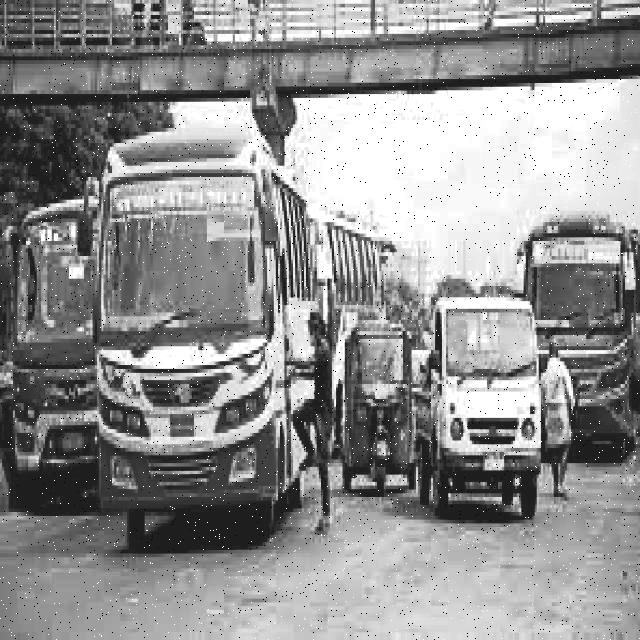Bus: (79, 120, 302, 548), (1, 189, 101, 485), (521, 218, 635, 454), (306, 192, 390, 339)
